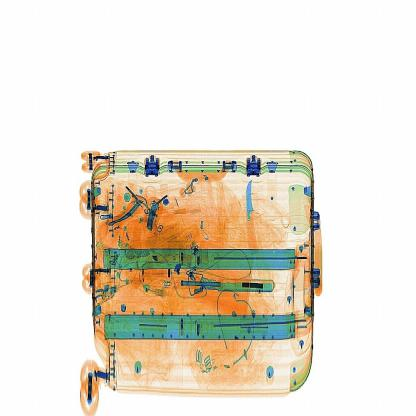wrench: (238, 176, 262, 261)
